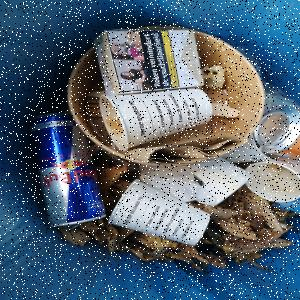Can: (28, 112, 108, 229), (259, 106, 300, 161)
Cup: (99, 89, 216, 155), (108, 180, 213, 248), (245, 162, 300, 205)
Trash: (96, 26, 212, 94)
